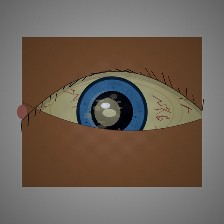corneal_ulcer: (85, 94, 130, 131)
